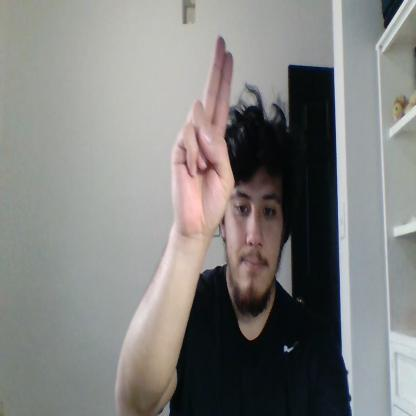U: (172, 37, 235, 235)
